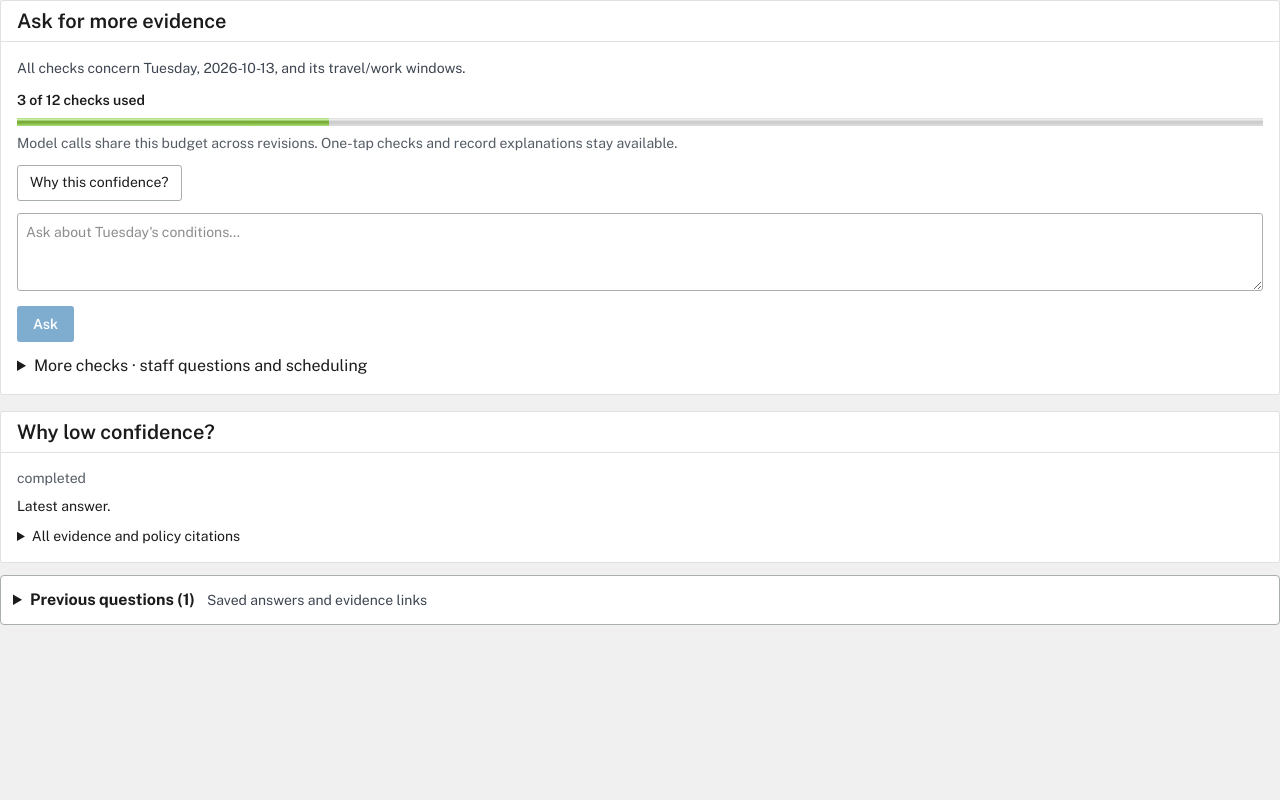
deduplicates answers by id and collapses previous questions
This screenshot has width=1280, height=800.
Check: the text "Latest answer." is shown once, box [17,498,110,514]
Check: the text "Old answer." is not shown
Click the text "Previous questions (1)": click(112, 600) [30,590,195,609]
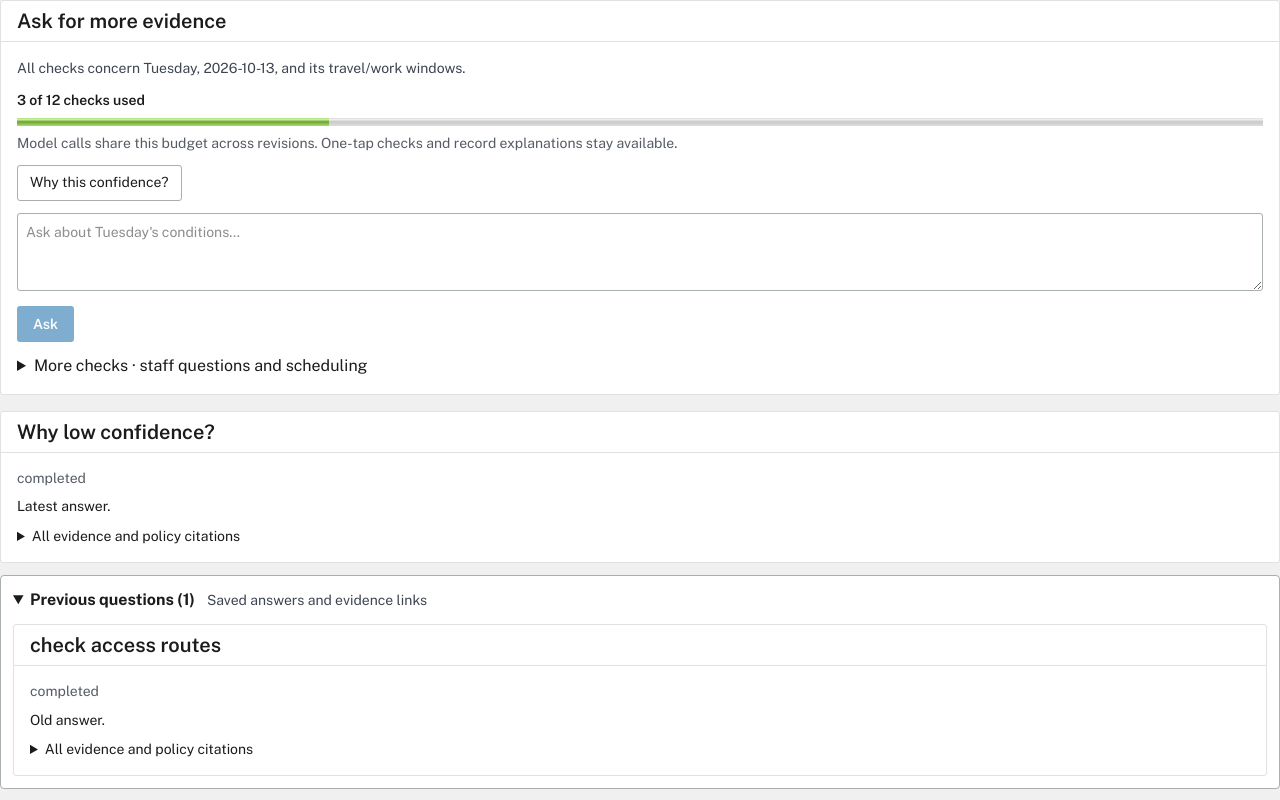
Check: the text "Old answer." is shown, box [30,712,105,728]
Check: the heading "check access routes" is shown, box [30,633,221,657]
